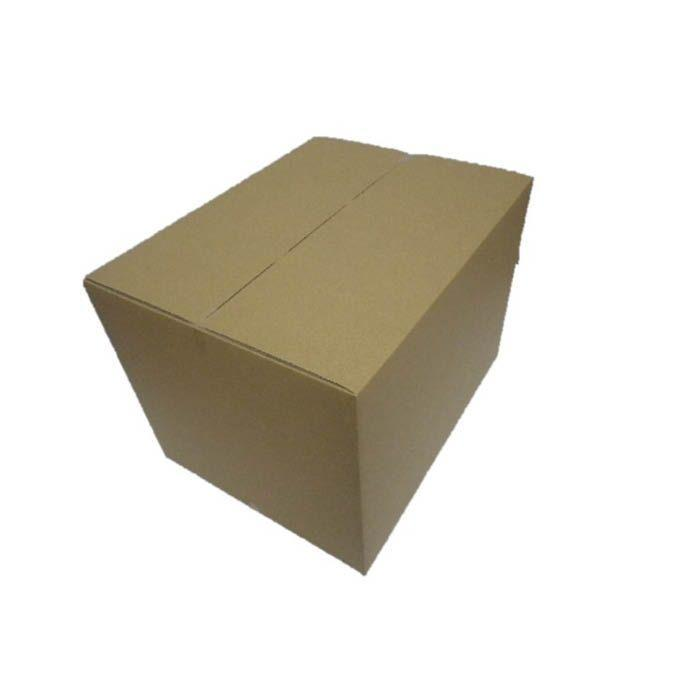box: (101, 132, 535, 578)
